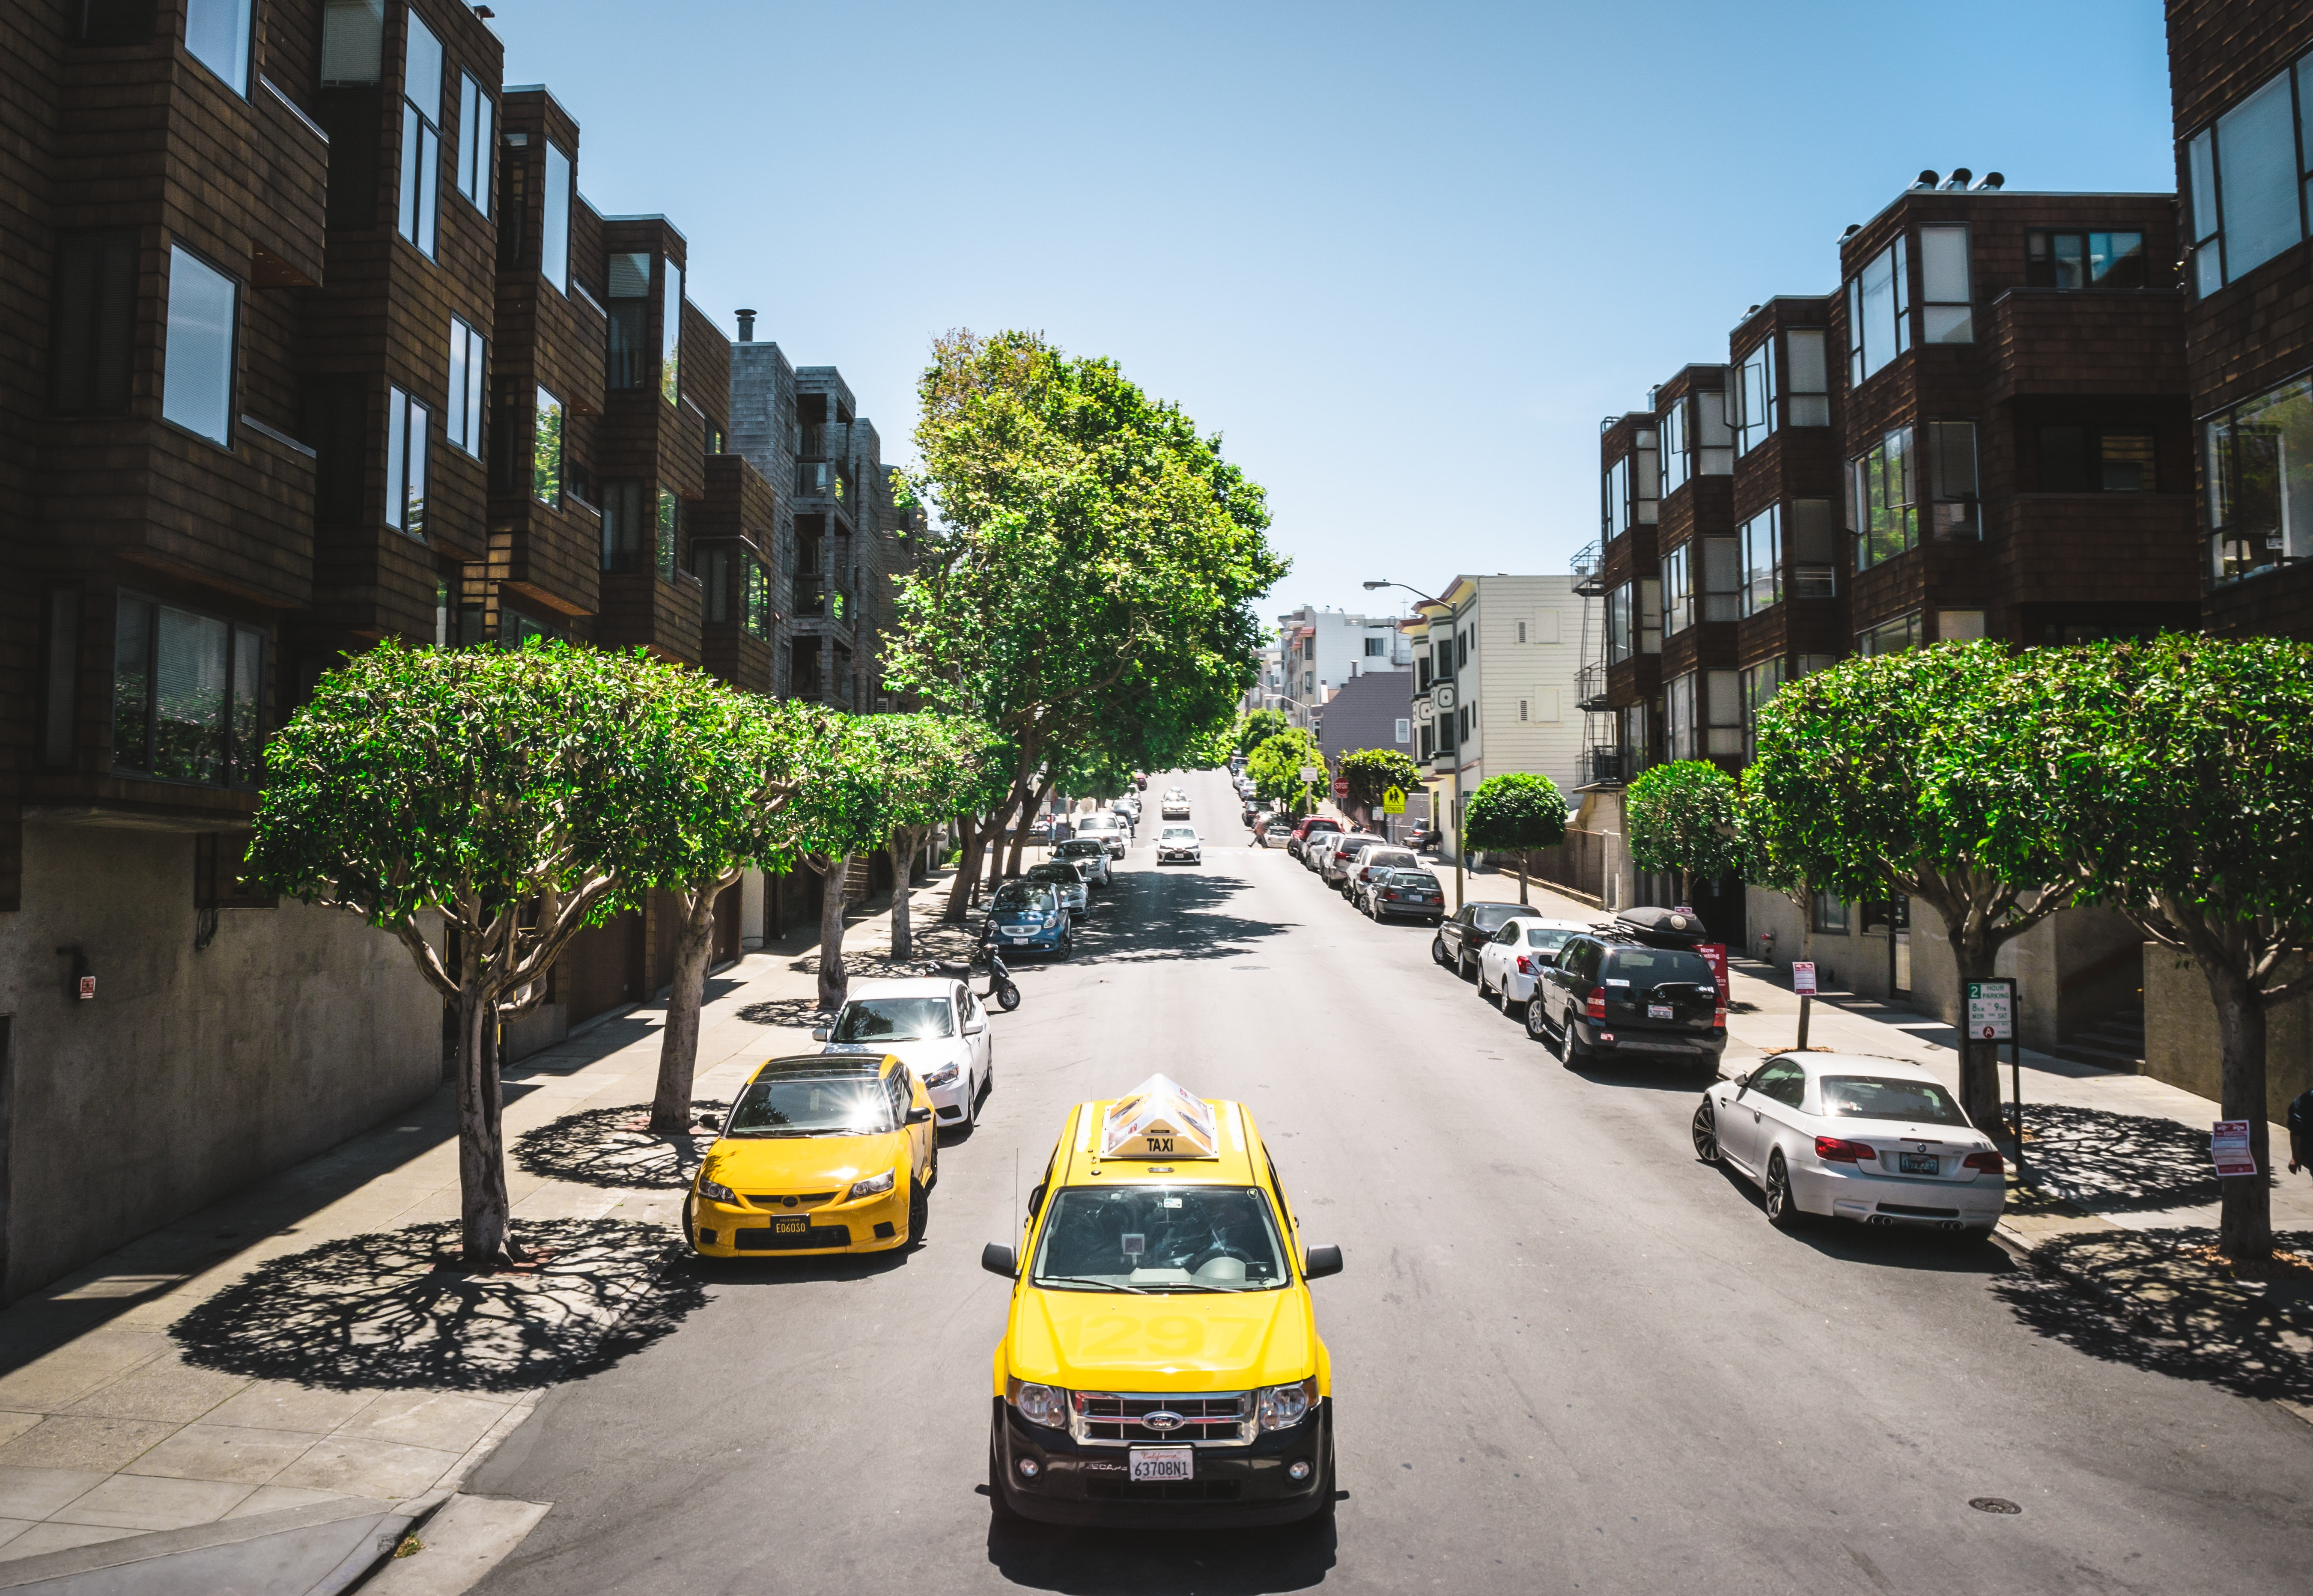tree: (232, 635, 647, 1267), (872, 320, 1295, 886), (2041, 629, 2311, 1260)
